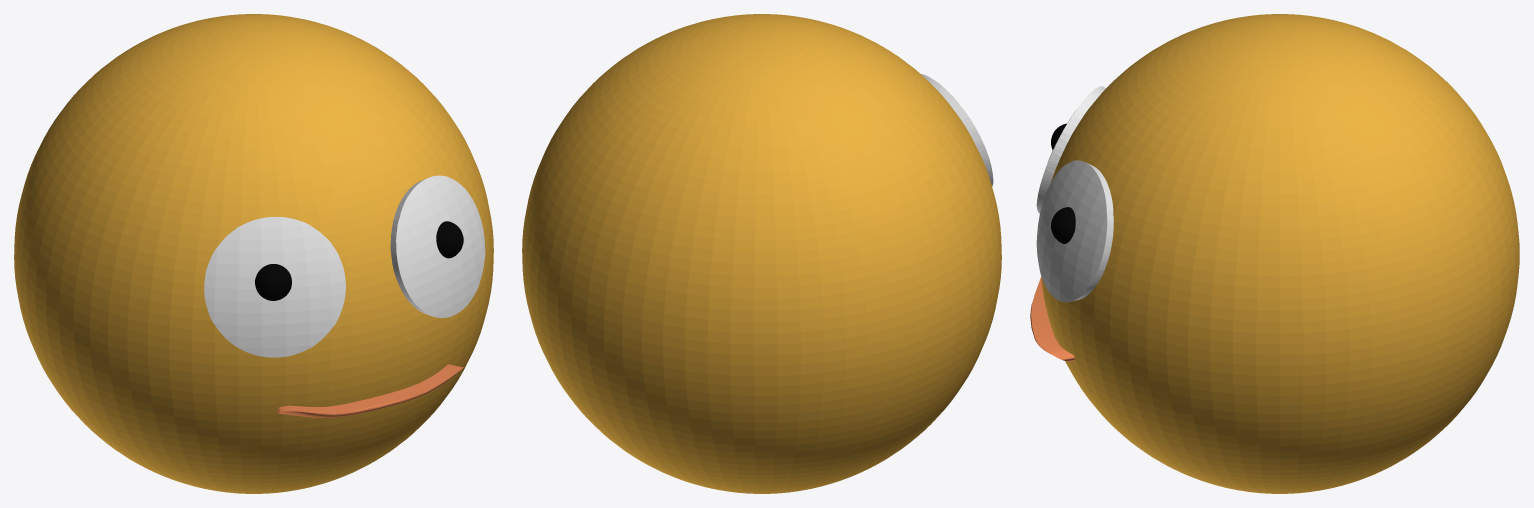
File: bumpy.glb
The picture shows the model from 3 angles, left to right: view 1: azimuth 30°, elevation 25°; view 2: azimuth 150°, elevation 25°; view 3: azimuth 270°, elevation 25°; orthographic projection.
Parts seen in each view (by area): view 1: BallRoot, EyeL, EyeR, Mouth, PupilL, PupilR; view 2: BallRoot, EyeL; view 3: BallRoot, EyeR, EyeL, Mouth, PupilR.
Part boxes in pixels (x1,y1,x2,y2): BallRoot: [14, 14, 493, 493]; EyeL: [204, 216, 345, 357]; EyeR: [390, 175, 485, 317]; Mouth: [277, 364, 463, 417]; PupilL: [255, 264, 291, 300]; PupilR: [436, 221, 463, 258]; BallRoot: [522, 14, 1001, 493]; EyeL: [921, 74, 993, 186]; BallRoot: [1041, 14, 1519, 493]; EyeR: [1036, 160, 1113, 302]; EyeL: [1036, 86, 1105, 213]; Mouth: [1030, 277, 1074, 361]; PupilR: [1051, 207, 1075, 243].
Bounding box in the file's own units: 0.5 × 0.5 × 0.51.
